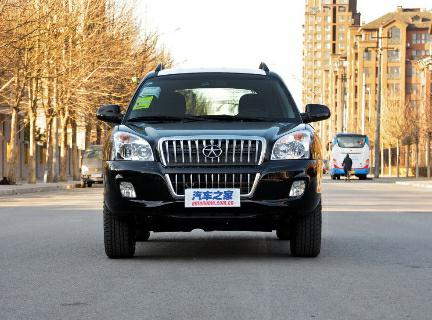江淮-瑞鹰: (91, 58, 332, 263)
